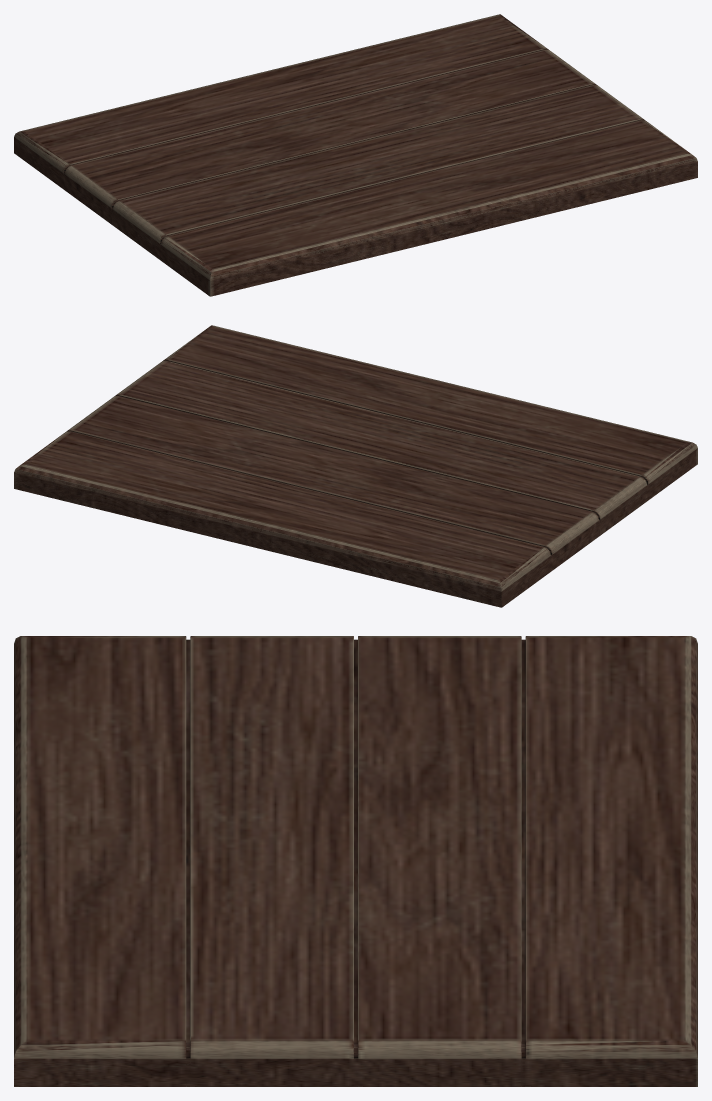
Rendered from Desk.fbx.
The picture shows the model from 3 angles, top to bottom: view 1: azimuth 30°, elevation 25°; view 2: azimuth 150°, elevation 25°; view 3: azimuth 270°, elevation 25°; orthographic projection. The views are drawn at different scales.
Parts seen in each view (by area): view 1: Desk; view 2: Desk; view 3: Desk.
Boxes of the visible parts, x1,y1,x2,y2 form: Desk: [14, 14, 697, 296]; Desk: [14, 325, 697, 607]; Desk: [14, 636, 697, 1086].
Size of the model in its own units: 5.22 by 0.2374 by 3.63.
Materials: 1 (1 with a texture image).
